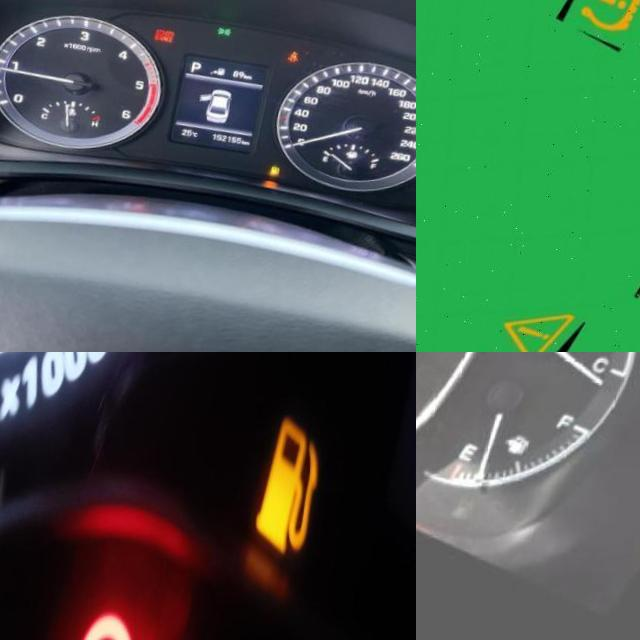Electronic Power Steering: (66, 596, 171, 640)
Low fuel level: (515, 444, 544, 473)
Seat Belt: (290, 57, 302, 68)
